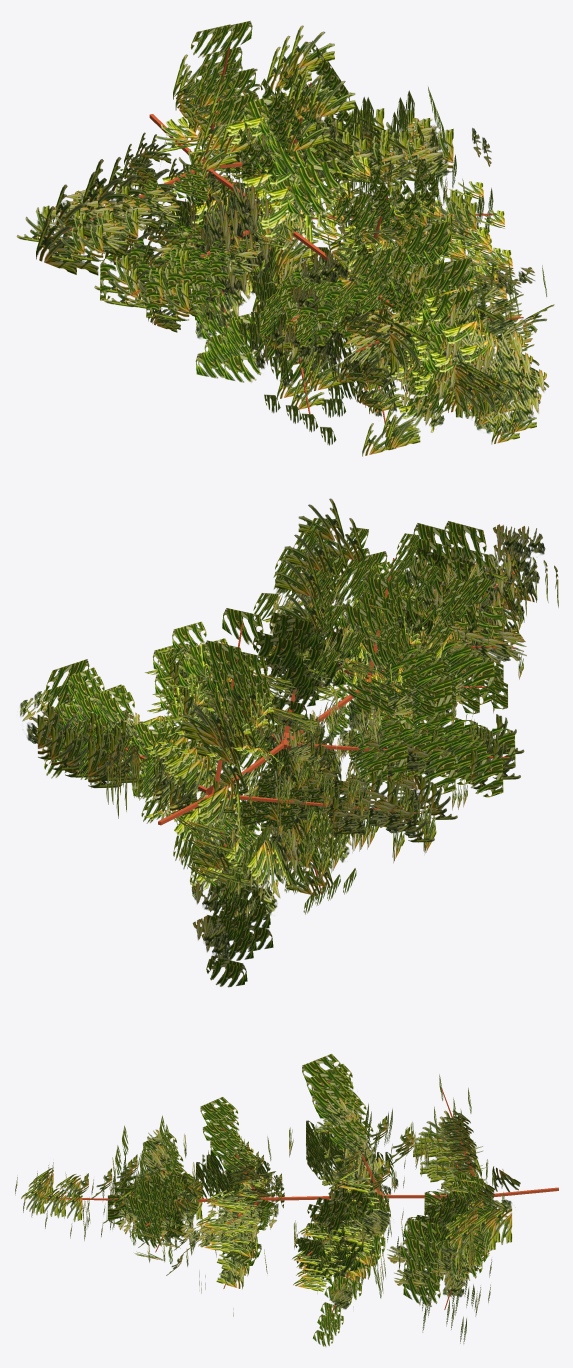
Rendered from tree-sampling-pine-3-combined.glb.
3 views of the same model, one above another, from view 1: azimuth 30°, elevation 25°; view 2: azimuth 150°, elevation 25°; view 3: azimuth 270°, elevation 25° (orthographic). The views are drawn at different scales.
Parts seen in each view (by area): view 1: pine-leaf-1.001, pine-leaf-2.500, pine-leaf-3.001, Plane; view 2: pine-leaf-2.500, pine-leaf-1.001, pine-leaf-3.001, Plane; view 3: pine-leaf-2.500, pine-leaf-1.001, pine-leaf-3.001, Plane.
Part boxes in pixels (box(x1,y1,x2,y2)): pine-leaf-1.001: box(16, 25, 554, 456); pine-leaf-2.500: box(100, 21, 547, 445); pine-leaf-3.001: box(37, 84, 546, 434); Plane: box(63, 35, 523, 425); pine-leaf-2.500: box(40, 518, 515, 987); pine-leaf-1.001: box(37, 498, 558, 896); pine-leaf-3.001: box(20, 524, 545, 960); Plane: box(75, 558, 516, 913); pine-leaf-2.500: box(107, 1053, 503, 1346); pine-leaf-1.001: box(21, 1071, 520, 1316); pine-leaf-3.001: box(15, 1085, 511, 1316); Plane: box(46, 1080, 558, 1312).
Bounding box in the file's own units: 1.75 × 1.66 × 2.62.
4 materials, 3 textured.
